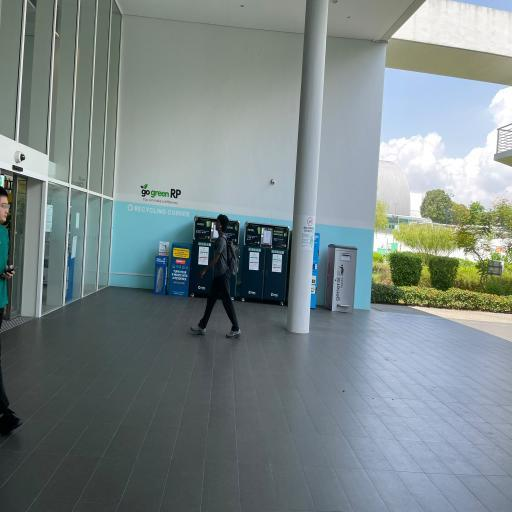person_left: (191, 214, 240, 337)
person_right: (0, 186, 14, 328), (0, 364, 22, 432)
